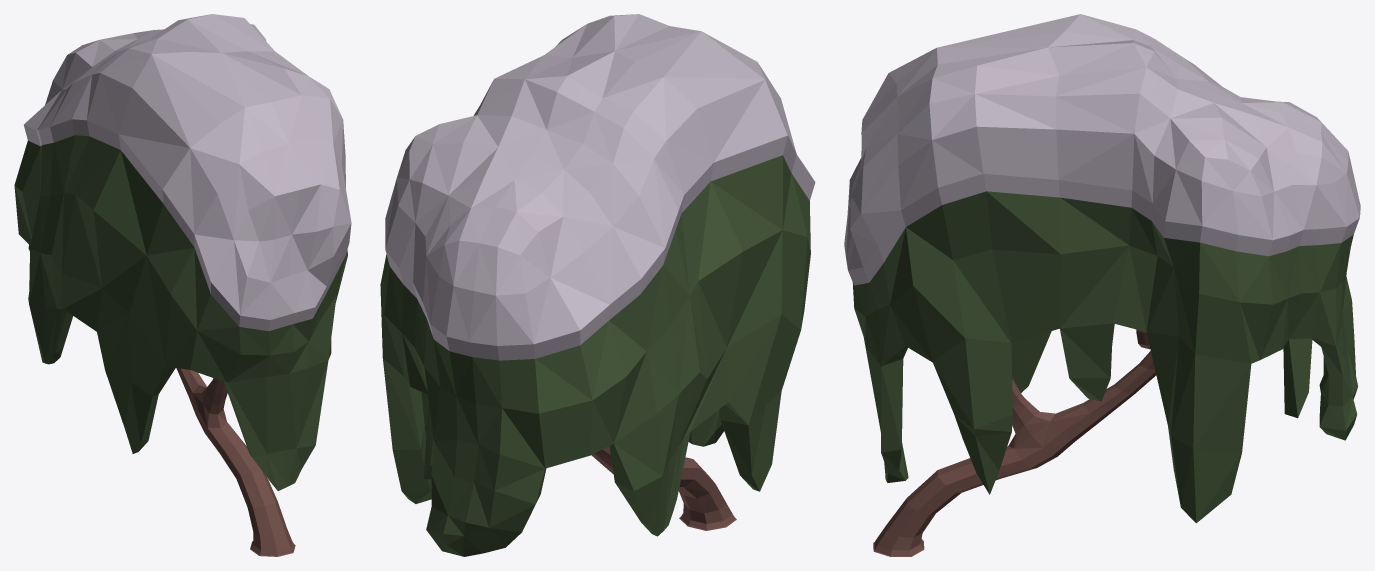
Rendered from Willow_Snow_2.glb.
The picture shows the model from 3 angles, left to right: view 1: azimuth 30°, elevation 25°; view 2: azimuth 150°, elevation 25°; view 3: azimuth 270°, elevation 25°; orthographic projection. The views are drawn at different scales.
Visible parts, largest first — view 1: Model; view 2: Model; view 3: Model.
Boxes of the visible parts, <box> form: Model: <box>14,14,351,556</box>; Model: <box>380,14,815,556</box>; Model: <box>844,14,1360,556</box>.
Size of the model in its own units: 195 by 346 by 316.
